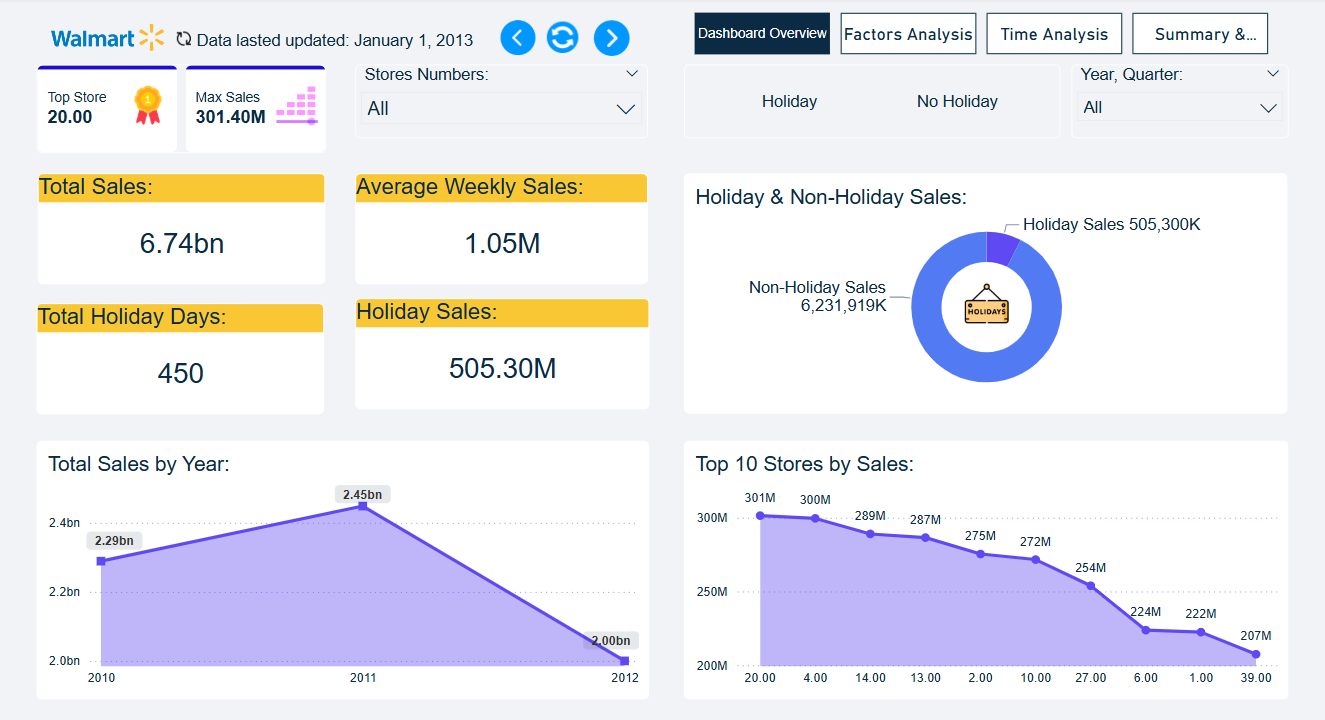

The dashboard page shown, as its layout file describes it:
{"tool":"powerbi","page":{"name":"Dashboard Overview","canvas":[1280,720],"ordinal":0},"visuals":[{"type":"card","title":"Total Sales:","fields":{"Values":["Sum(Walmart_Sales.Weekly_Sales)"]},"box":[37.1,169.6,278,106.9],"z":0},{"type":"slicer","fields":{"Values":["Walmart_Sales.Branch_Name"]},"box":[343.5,65.6,282.2,71.3],"z":1000},{"type":"slicer","fields":{"Values":["Walmart_Sales.Holiday_Description"]},"box":[661.4,65.6,363.5,71.3],"z":2000},{"type":"slicer","fields":{"Values":["Walmart_Sales.YearOnly","Walmart_Sales.Date.Variation.Date Hierarchy.Quarter","Walmart_Sales.Date.Variation.Date Hierarchy.Month"]},"box":[1034.8,65.6,209.5,71.3],"z":3000},{"type":"lineChart","title":"Total Sales by Year:","fields":{"Category":["Walmart_Sales.Date.Variation.Date Hierarchy.Year","Walmart_Sales.Date.Variation.Date Hierarchy.Quarter"],"Y":["Sum(Walmart_Sales.Weekly_Sales)"]},"box":[35.7,428.1,591.4,249.7],"z":4000},{"type":"card","title":"Average Weekly Sales:","fields":{"Values":["Avg(Walmart_Sales.Weekly_Sales)"]},"box":[343.5,169.6,282.2,106.9],"z":5000},{"type":"areaChart","title":"Top 10 Stores by Sales:","fields":{"Category":["Walmart_Sales.Store"],"Y":["Sum(Walmart_Sales.Weekly_Sales)"]},"box":[661.4,428.1,583.2,249.7],"z":6000},{"type":"donutChart","title":"Holiday & Non-Holiday Sales:","fields":{"Y":["Walmart_Sales.Holiday Sales","Walmart_Sales.Non-Holiday Sales"]},"box":[661.1,170.1,582.7,231.6],"z":7000},{"type":"card","title":"Total Holiday Days:","fields":{"Values":["Walmart_Sales.Holiday Days"]},"box":[35.6,295.1,278,106.9],"z":8000},{"type":"card","title":"Holiday Sales:","fields":{"Values":["Walmart_Sales.Holiday Sales"]},"box":[343.5,290.8,283.7,106.9],"z":9000},{"type":"cardVisual","fields":{"Data":["Walmart_Sales.Top Store","Walmart_Sales.Max Sales"]},"box":[35.6,65.6,279.4,85.5],"z":10000},{"type":"textbox","box":[190.7,32.9,281.3,20.6],"z":11000},{"type":"image","box":[157.8,23.3,41.2,34.3],"z":12000},{"type":"image","box":[515.3,13.7,57.6,50.8],"z":13000},{"type":"image","box":[472,11,59,56.3],"z":14000},{"type":"image","box":[557.1,11.7,68.6,54.9],"z":15000},{"type":"pageNavigator","box":[661.1,4.8,574.3,60.3],"z":16000},{"type":"image","box":[33.8,4.8,141.2,67.6],"z":17000},{"type":"image","box":[921.7,264.2,62.7,62.7],"z":18000},{"type":"image","box":[114.6,73.6,57.9,61.5],"z":19000},{"type":"image","box":[255.8,74.8,63.9,60.3],"z":20000}]}

Visuals, with their boxes on the page's 1280x720 design canvas (x1, y1, x2, y2). These are canvas units, not pixel positions in the 1325x720 screenshot, which may show the page scaled, cropped or inside an application window:
"Total Sales:" card: 37, 170, 315, 276
slicer - Walmart_Sales.Branch_Name: 344, 66, 626, 137
slicer - Walmart_Sales.Holiday_Description: 661, 66, 1025, 137
slicer - Walmart_Sales.YearOnly x Walmart_Sales.Date.Variation.Date Hierarchy.Quarter: 1035, 66, 1244, 137
"Total Sales by Year:" lineChart: 36, 428, 627, 678
"Average Weekly Sales:" card: 344, 170, 626, 276
"Top 10 Stores by Sales:" areaChart: 661, 428, 1245, 678
"Holiday & Non-Holiday Sales:" donutChart: 661, 170, 1244, 402
"Total Holiday Days:" card: 36, 295, 314, 402
"Holiday Sales:" card: 344, 291, 627, 398
cardVisual - Walmart_Sales.Top Store x Walmart_Sales.Max Sales: 36, 66, 315, 151
textbox: 191, 33, 472, 54
image: 158, 23, 199, 58
image: 515, 14, 573, 64
image: 472, 11, 531, 67
image: 557, 12, 626, 67
pageNavigator: 661, 5, 1235, 65
image: 34, 5, 175, 72
image: 922, 264, 984, 327
image: 115, 74, 172, 135
image: 256, 75, 320, 135
